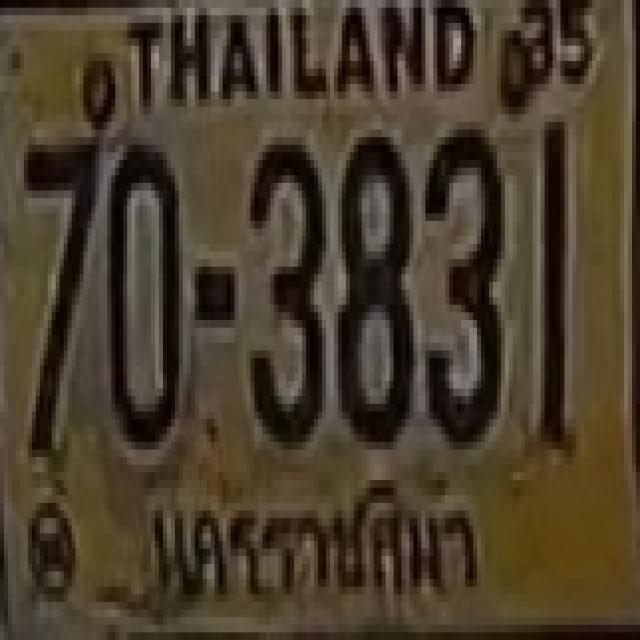0: (107, 137, 179, 442)
1: (540, 118, 564, 446)
3: (421, 122, 501, 442), (246, 137, 322, 442)
7: (20, 137, 95, 450)
8: (334, 129, 409, 442)
NMA: (142, 469, 486, 610)
